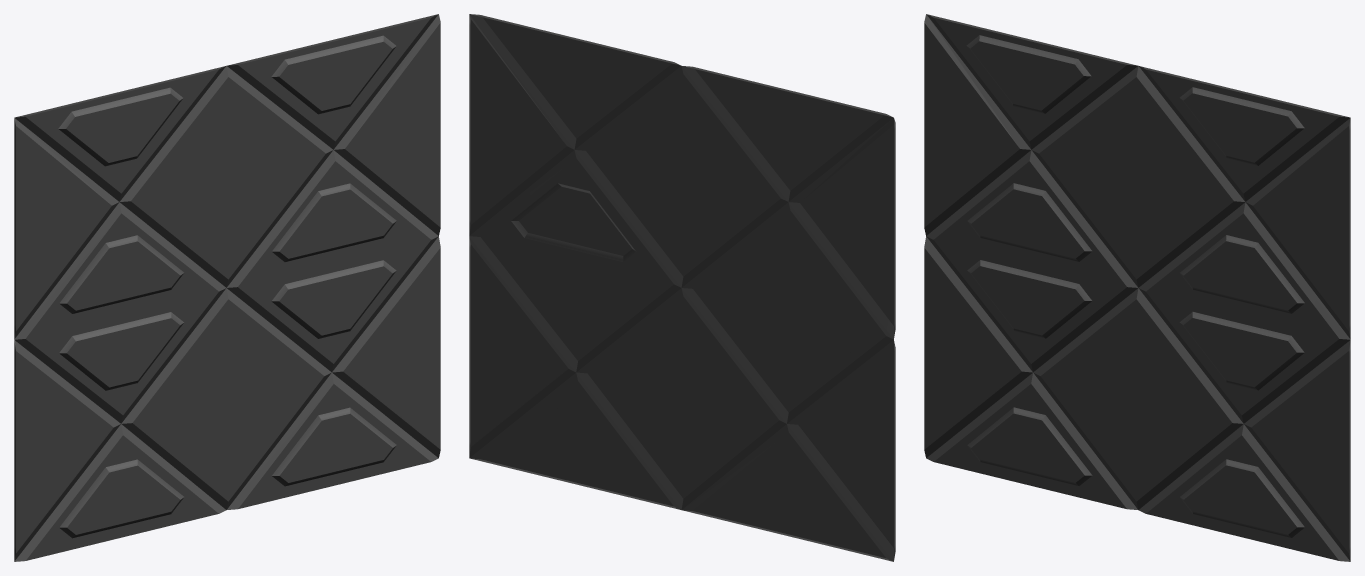
The model's file is sec1_2.fbx.
3 views of the same model, side by side, from view 1: azimuth 30°, elevation 25°; view 2: azimuth 150°, elevation 25°; view 3: azimuth 330°, elevation 25° (orthographic).
Visible parts, largest first — view 1: sec1_2_mesh; view 2: sec1_2_mesh, sec1_2_mesh.001; view 3: sec1_2_mesh.
Part boxes in pixels (left/top/right/bottom): sec1_2_mesh: left=14, top=14, right=440, bottom=561; sec1_2_mesh: left=469, top=14, right=895, bottom=561; sec1_2_mesh.001: left=511, top=183, right=636, bottom=261; sec1_2_mesh: left=924, top=14, right=1350, bottom=561.
Size of the model in its own units: 256 by 256 by 6.
